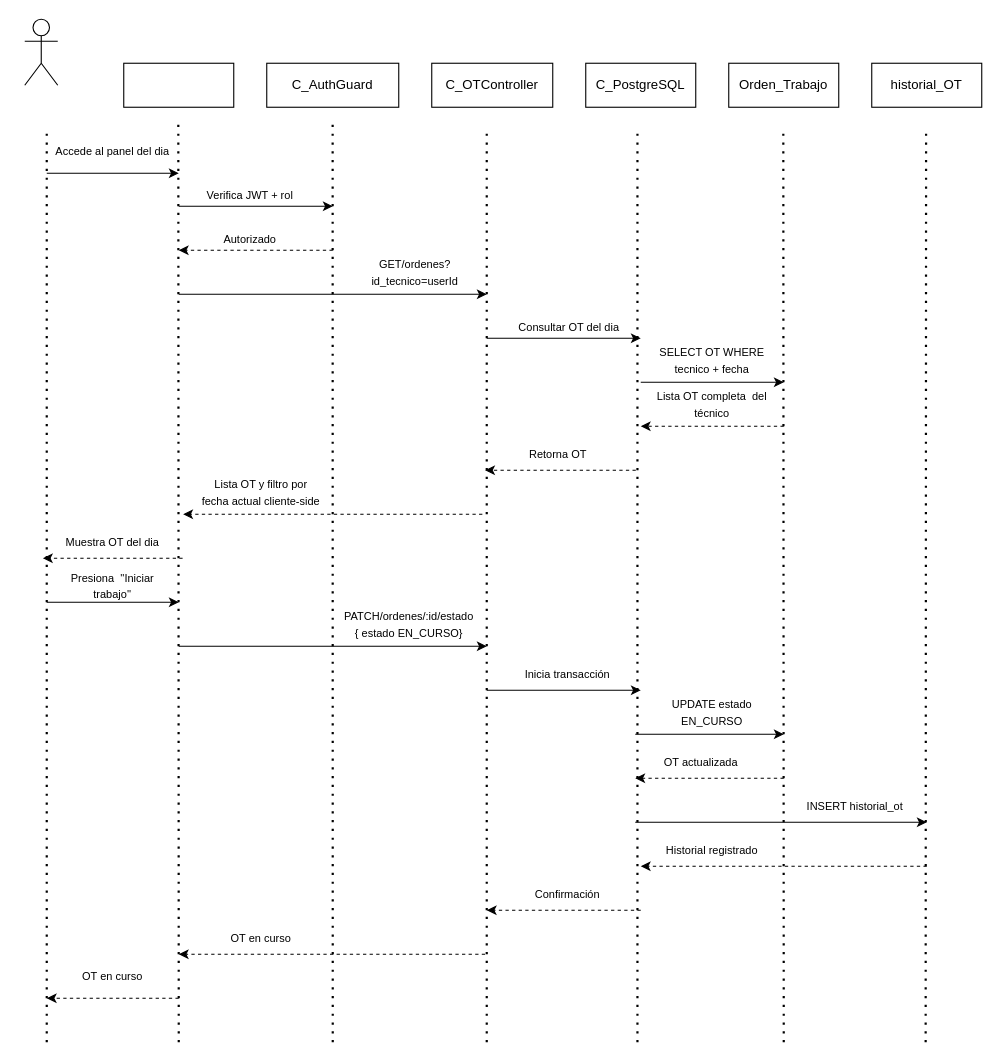
Some shapes in this 1001 by 1064 pixel diagram are drawn without their labels. Here are the shapes that lost their labels. From the top down, the centre of each, then its label:
At (x=41, y=51): "Tecnico".
At (x=178, y=84): "V_Terreno".
